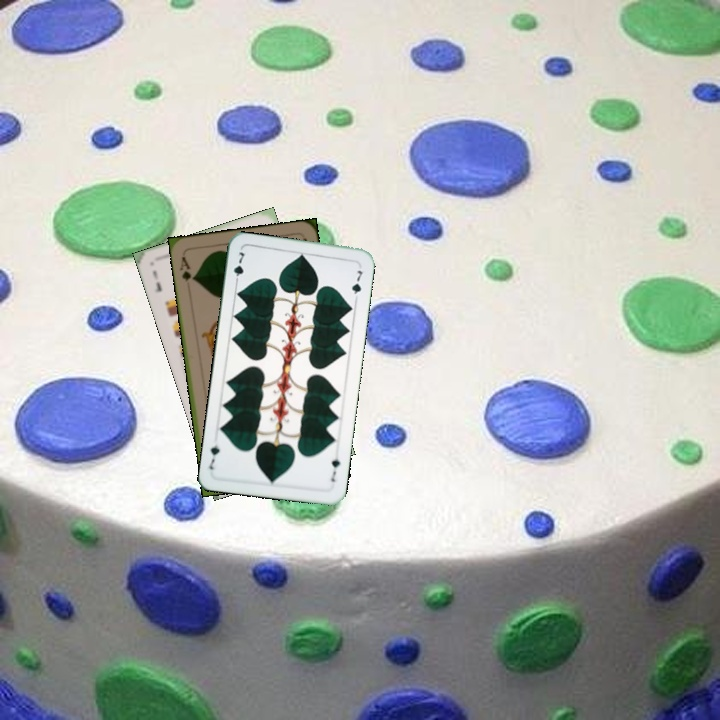E7: (149, 266, 164, 294)
G7: (229, 248, 247, 287), (327, 449, 343, 484)
GA: (176, 252, 197, 283)
